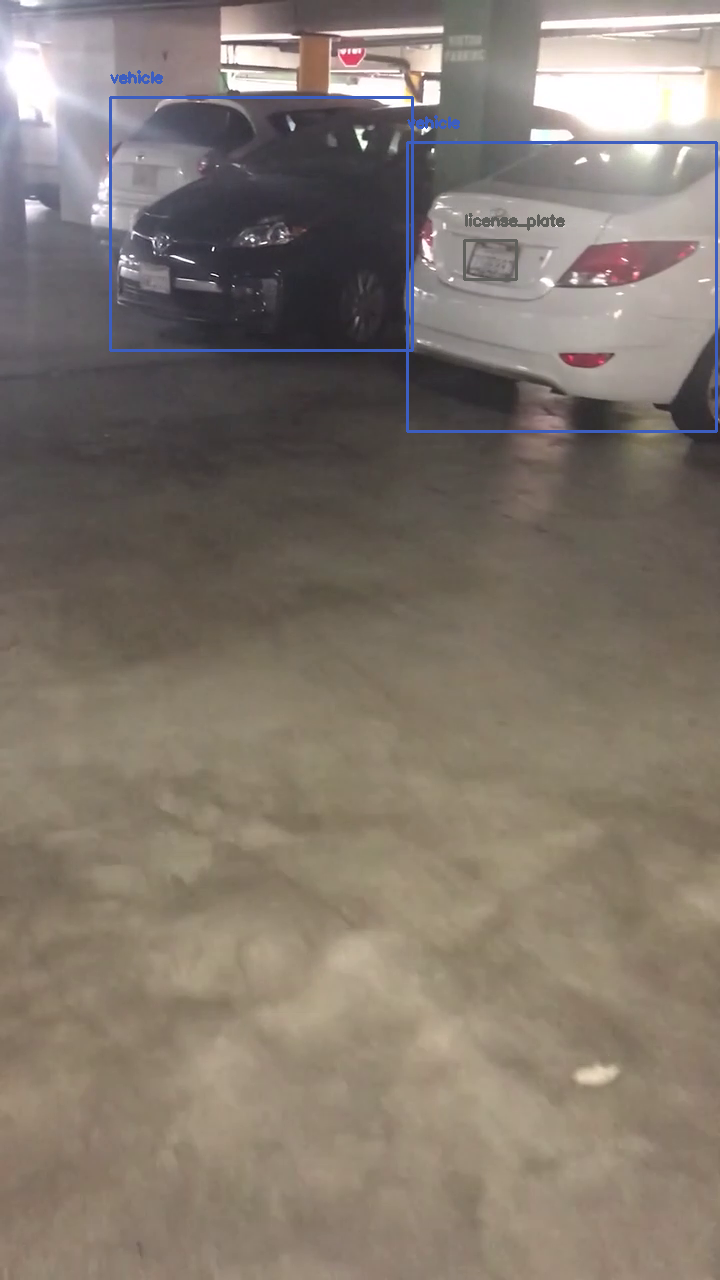license_plate: (464, 240, 516, 279)
vehicle: (407, 142, 716, 431), (110, 97, 412, 350)
